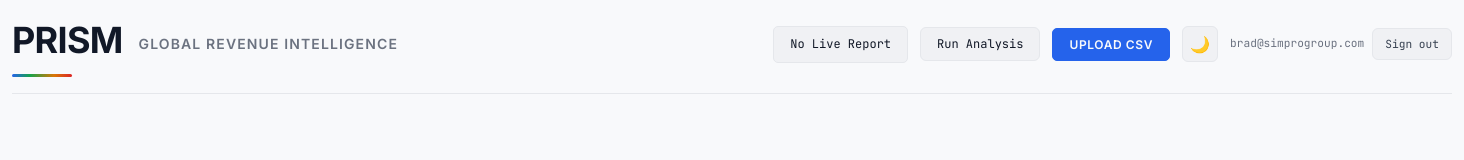
Test: Header run analysis › asks for confirmation before running and can be cancelled
The image size is (1464, 160).
Click the button "Run Analysis" at (980, 44), box [920,27,1040,61]
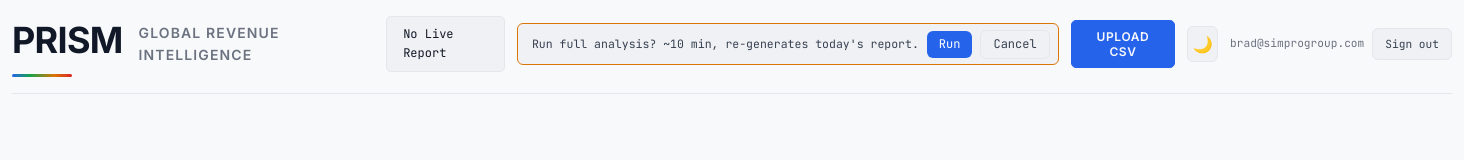
Expected: the text "Run full analysis? ~10 min, re-generates today's report." is shown, [532,35,919,54]
Click the button "Cancel" at (1015, 44), box [980,30,1050,59]
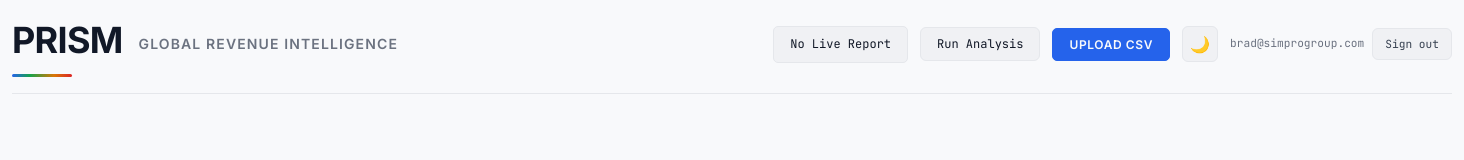
Expected: the text "Run full analysis?" is gone
